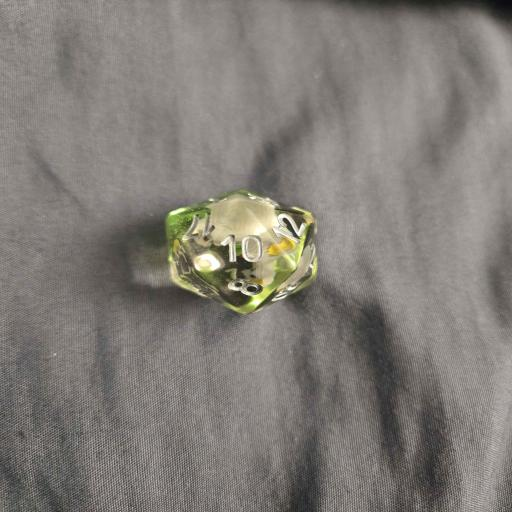twenty sided dice: (166, 188, 318, 314)
